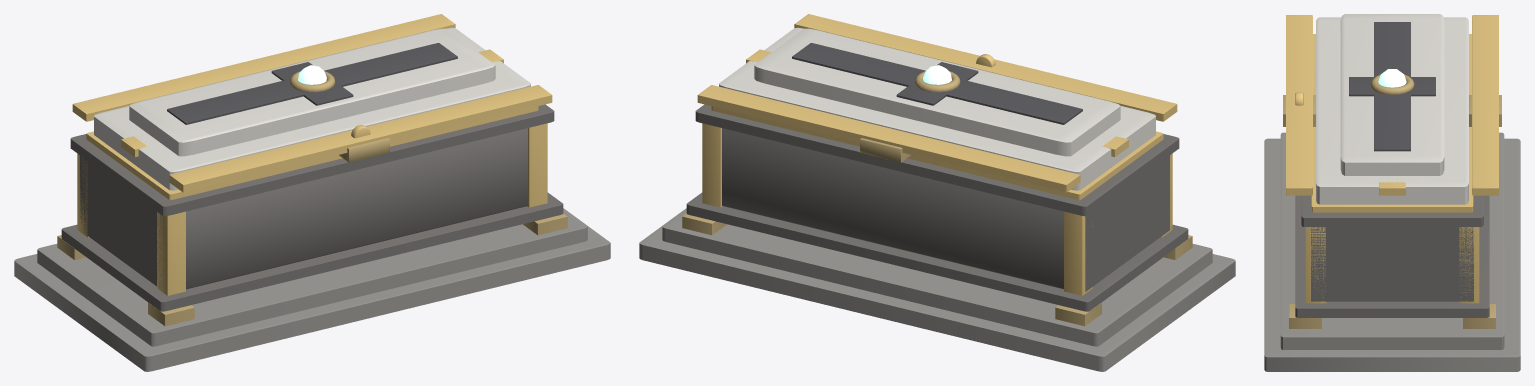
File: hp_room_museum_sarcophagus_stone_bier.glb
The picture shows the model from 3 angles, left to right: view 1: azimuth 30°, elevation 25°; view 2: azimuth 150°, elevation 25°; view 3: azimuth 270°, elevation 25°; orthographic projection. The views are drawn at different scales.
Visible parts, largest first — view 1: room_museum_sarcophagus_stone_bier; view 2: room_museum_sarcophagus_stone_bier; view 3: room_museum_sarcophagus_stone_bier.
Boxes of the visible parts, <box> form: room_museum_sarcophagus_stone_bier: <box>14,14,610,371</box>; room_museum_sarcophagus_stone_bier: <box>639,14,1235,371</box>; room_museum_sarcophagus_stone_bier: <box>1264,14,1520,371</box>.
Size of the model in its own units: 2.5 by 1.03 by 1.24.
